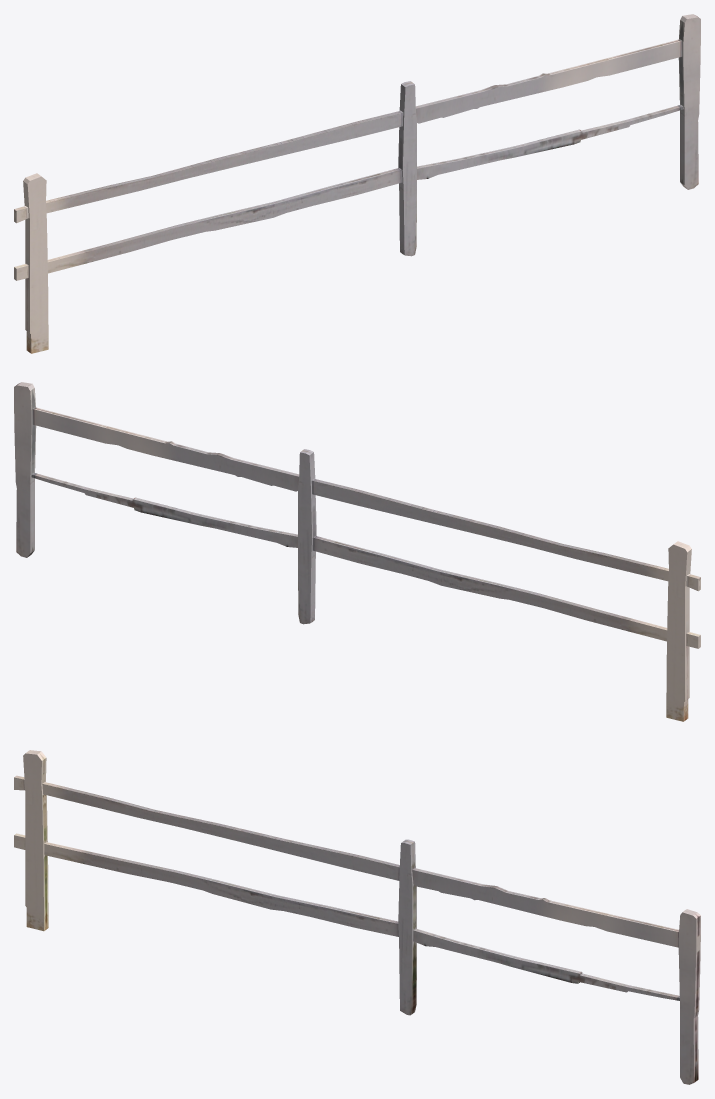
File: Fence5.FBX
3 renders of one model, top to bottom at view 1: azimuth 30°, elevation 25°; view 2: azimuth 150°, elevation 25°; view 3: azimuth 330°, elevation 25°, orthographic.
Parts seen in each view (by area): view 1: Plane002; view 2: Plane002; view 3: Plane002.
Boxes of the visible parts, box(x1,y1,x2,y2) form: Plane002: box(14, 14, 700, 353); Plane002: box(14, 382, 700, 721); Plane002: box(14, 750, 700, 1084).
Bounding box in the file's own units: 395 × 97.21 × 4.59.
